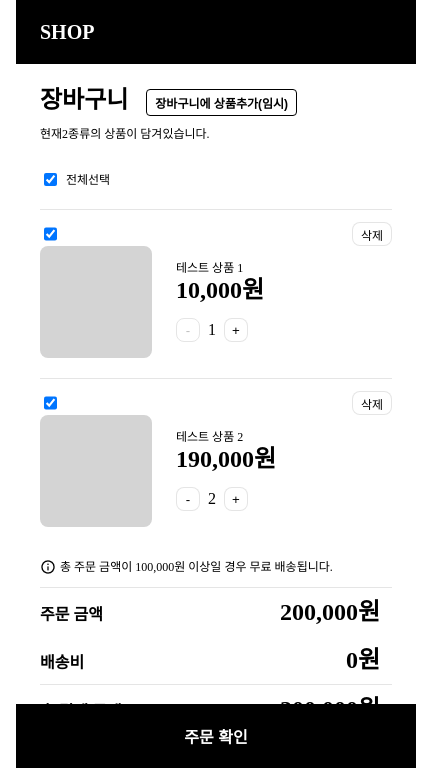
Test: CartPage › 체크된 전체 선택 버튼을 누르면 상품 목록의 체크박스가 전부 해제된다
Expected: the text "테스트 상품 1" is shown, x1=176 y1=262 x2=243 y2=274
Click the checkbox labelled "전체선택" at x=50, y=180, box x1=44 y1=173 x2=57 y2=186
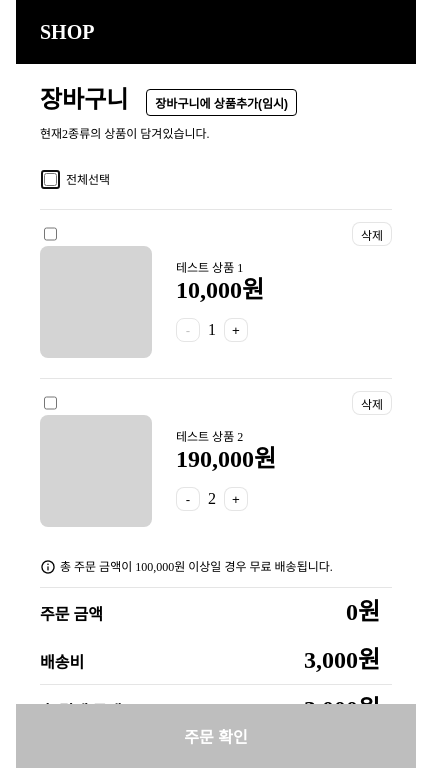
Expected: the checkbox labelled "전체선택" is not checked, x1=44 y1=173 x2=57 y2=186
Expected: the 2nd checkbox is not checked, x1=44 y1=225 x2=57 y2=243
Expected: the 3rd checkbox is not checked, x1=44 y1=394 x2=57 y2=412
